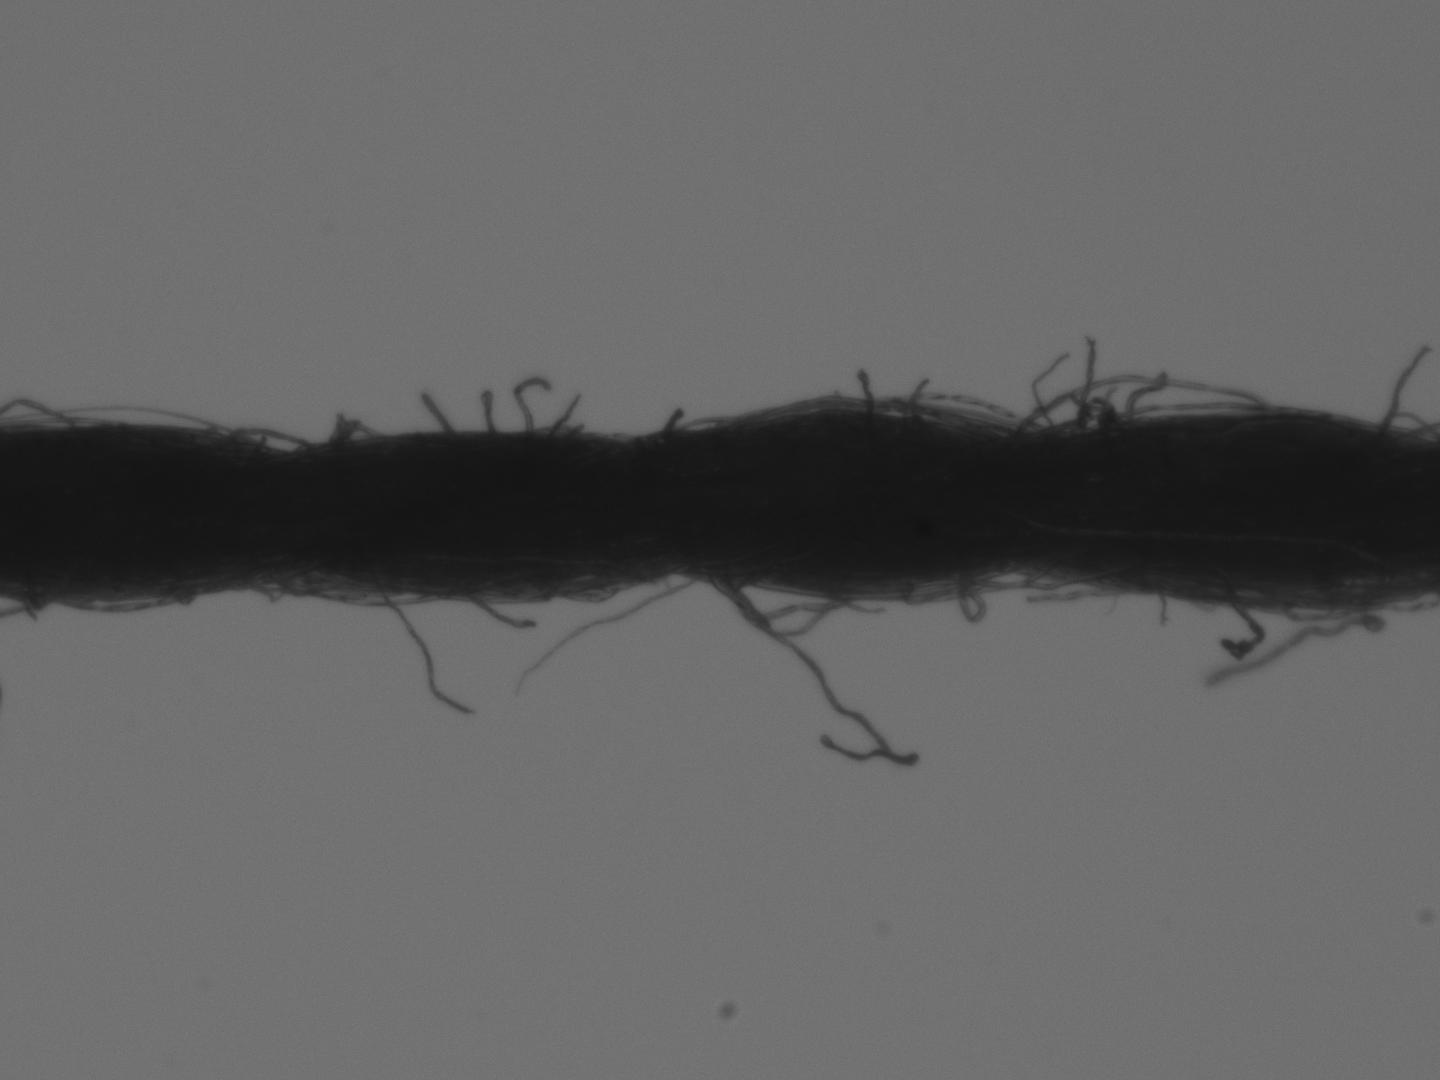loop_fiber: (1005, 371, 1297, 448), (898, 549, 1117, 625), (695, 573, 853, 642), (485, 560, 679, 606), (235, 571, 441, 611), (1255, 581, 1422, 625), (209, 421, 320, 459), (324, 407, 396, 456)
protruding_fiber: (372, 573, 486, 723), (421, 385, 461, 440), (849, 363, 881, 428)
